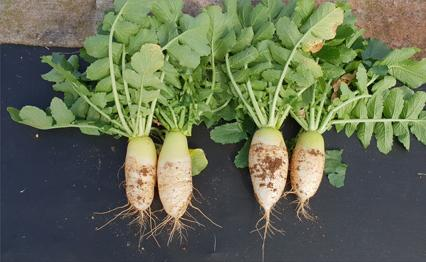radish: (163, 52, 192, 92), (104, 53, 131, 93), (192, 52, 222, 88), (80, 55, 107, 87)
